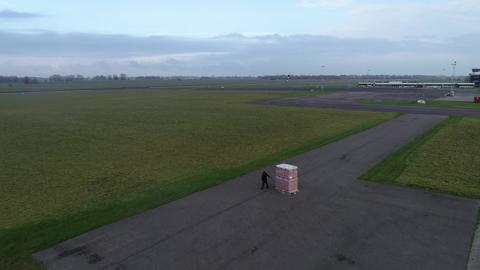RockwoolPallet: (275, 161, 300, 194)
